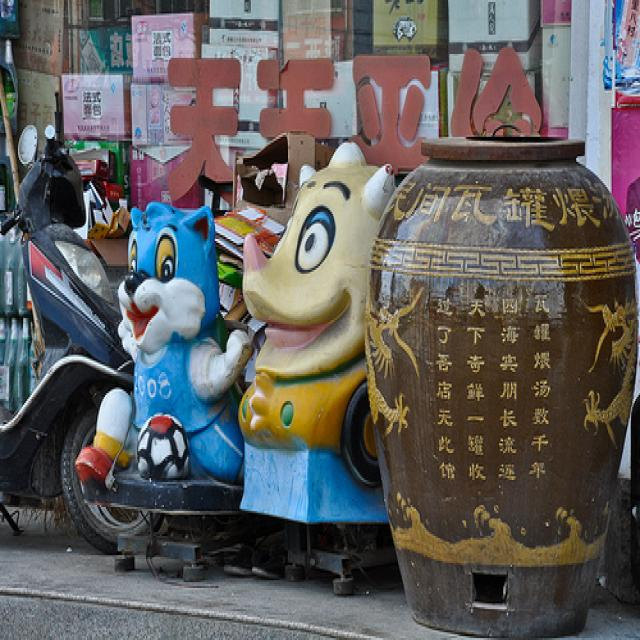motor: (0, 126, 166, 548)
